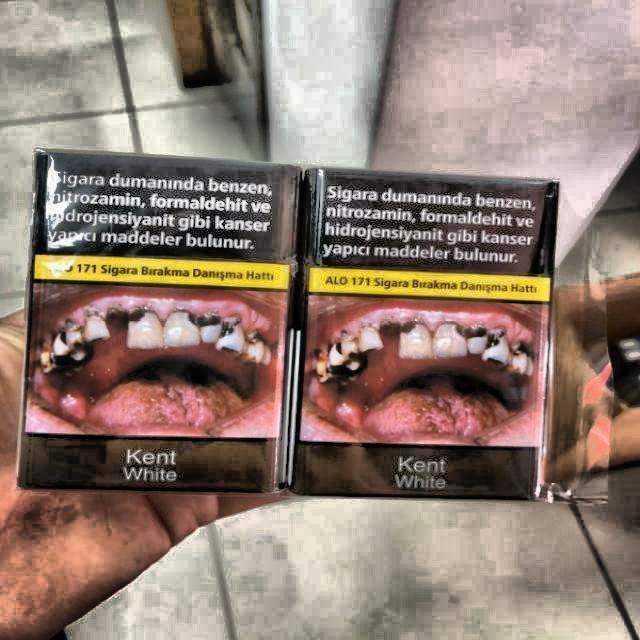cardboard: (19, 153, 303, 497), (292, 168, 559, 500)
